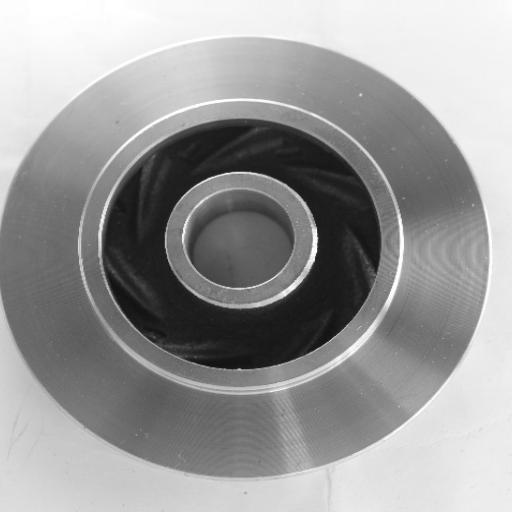polished_casting: (0, 34, 492, 480)
